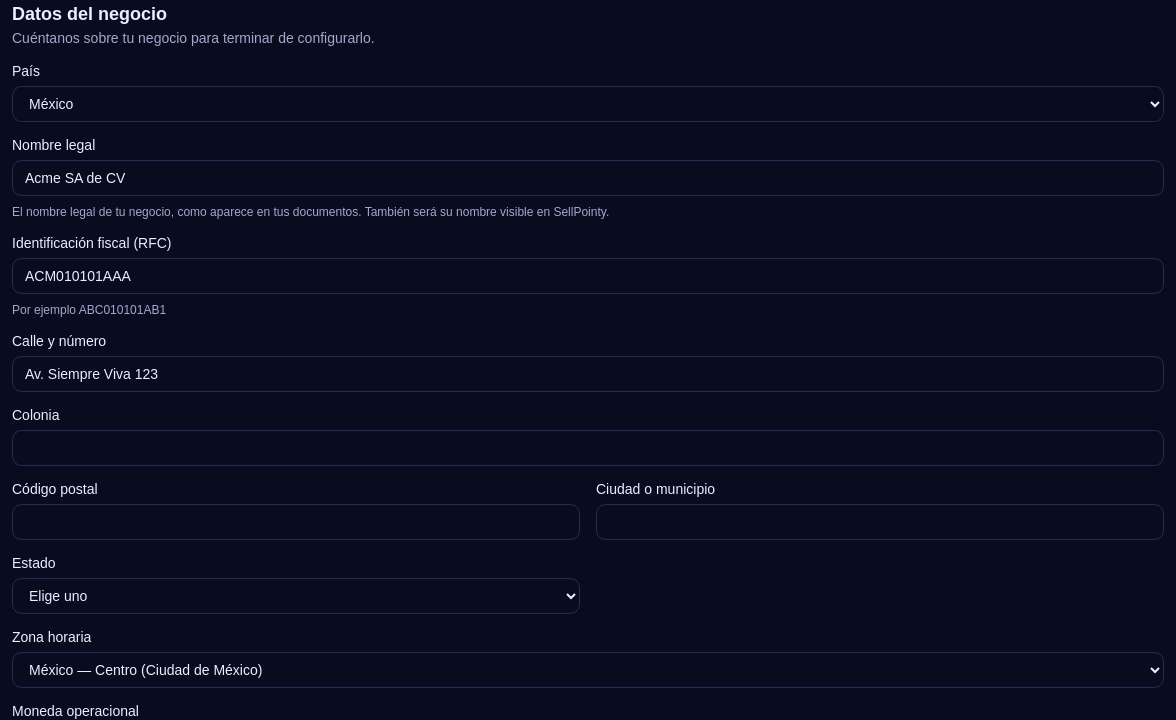
StepBusiness — zonas horarias curadas por país (decisión de Carlos, 2026-08-16) › país de una sola zona (SV): la ofrece sola y preseleccionada
This screenshot has width=1176, height=720.
Select "El Salvador" in the dropdown labelled "País" at (588, 104), box [12,86,1164,122]
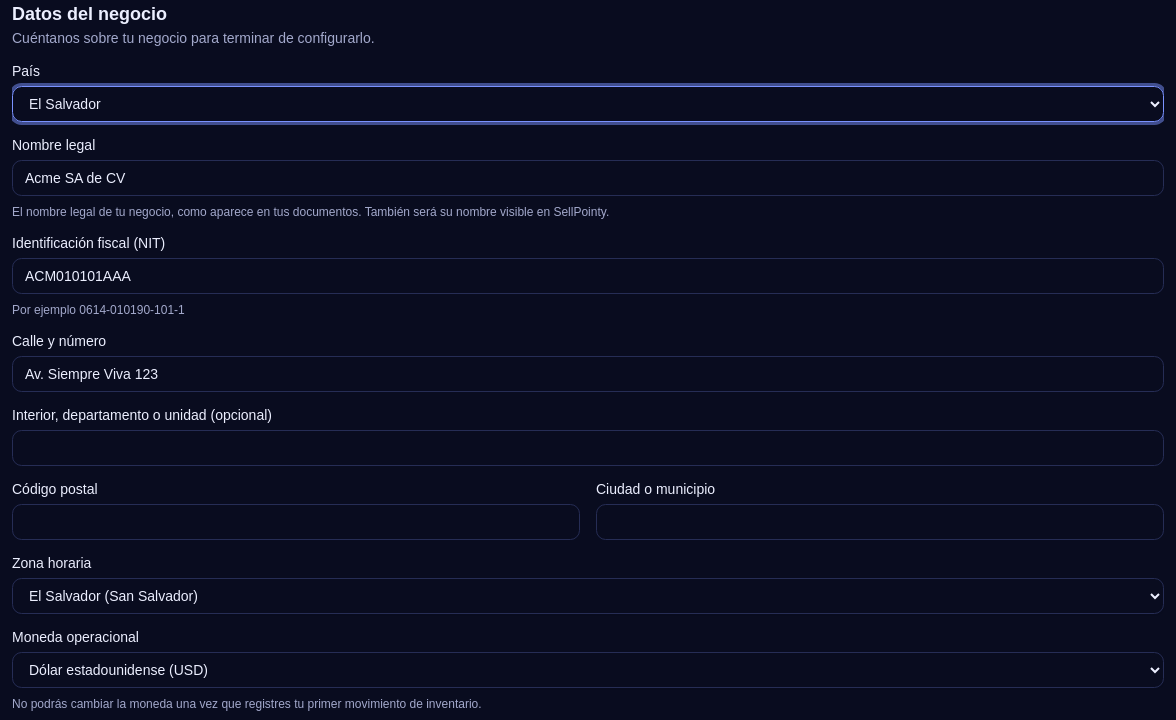
Expected: the dropdown labelled "Zona horaria" shows "El Salvador (San Salvador)", [12,578,1164,614]
